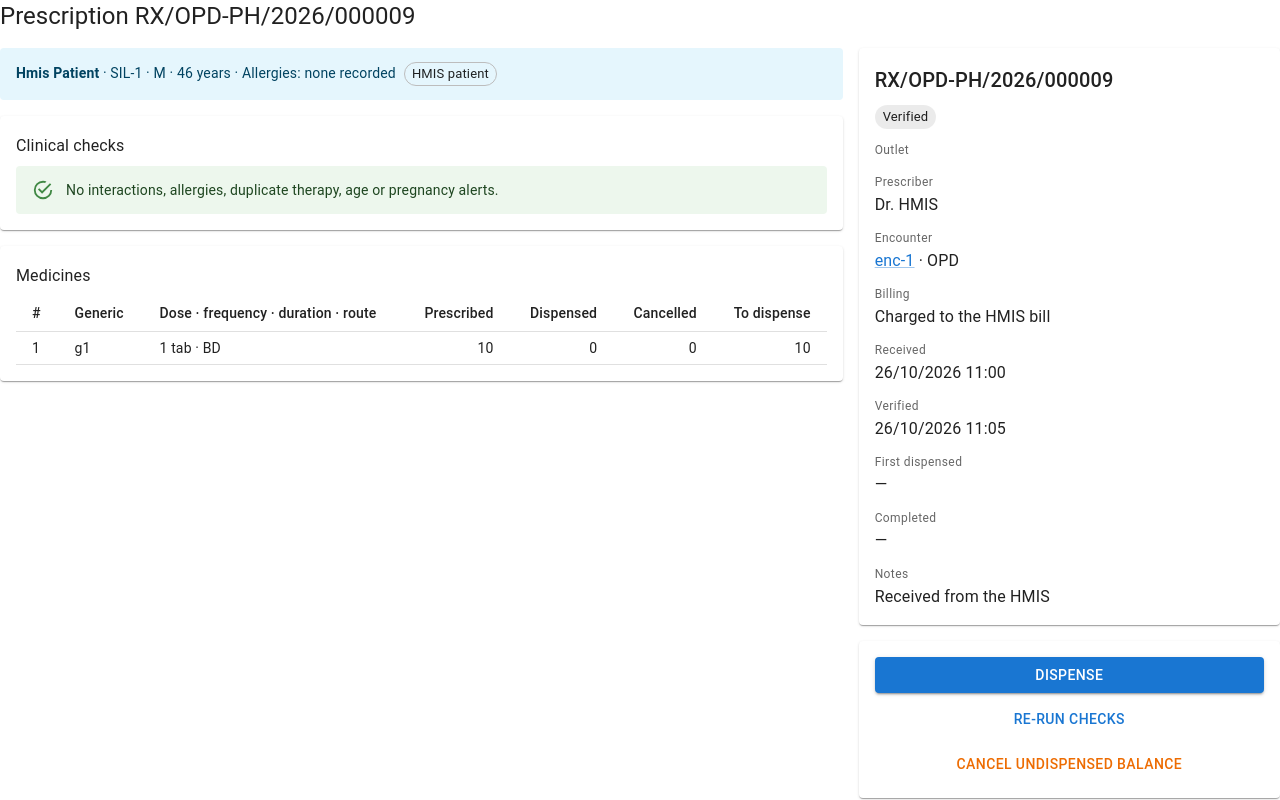
Test: HMIS billing on the prescription and encounter screens › links the encounter, shows charges and HMIS records, and takes no payment when the HMIS bills
Expected: the text "Charged to the HMIS bill" is shown, [875, 307, 1050, 326]
Expected: the text "HMIS patient" is shown, [412, 66, 489, 81]
Click the button "Dispense" at (1069, 675), box [875, 657, 1264, 693]
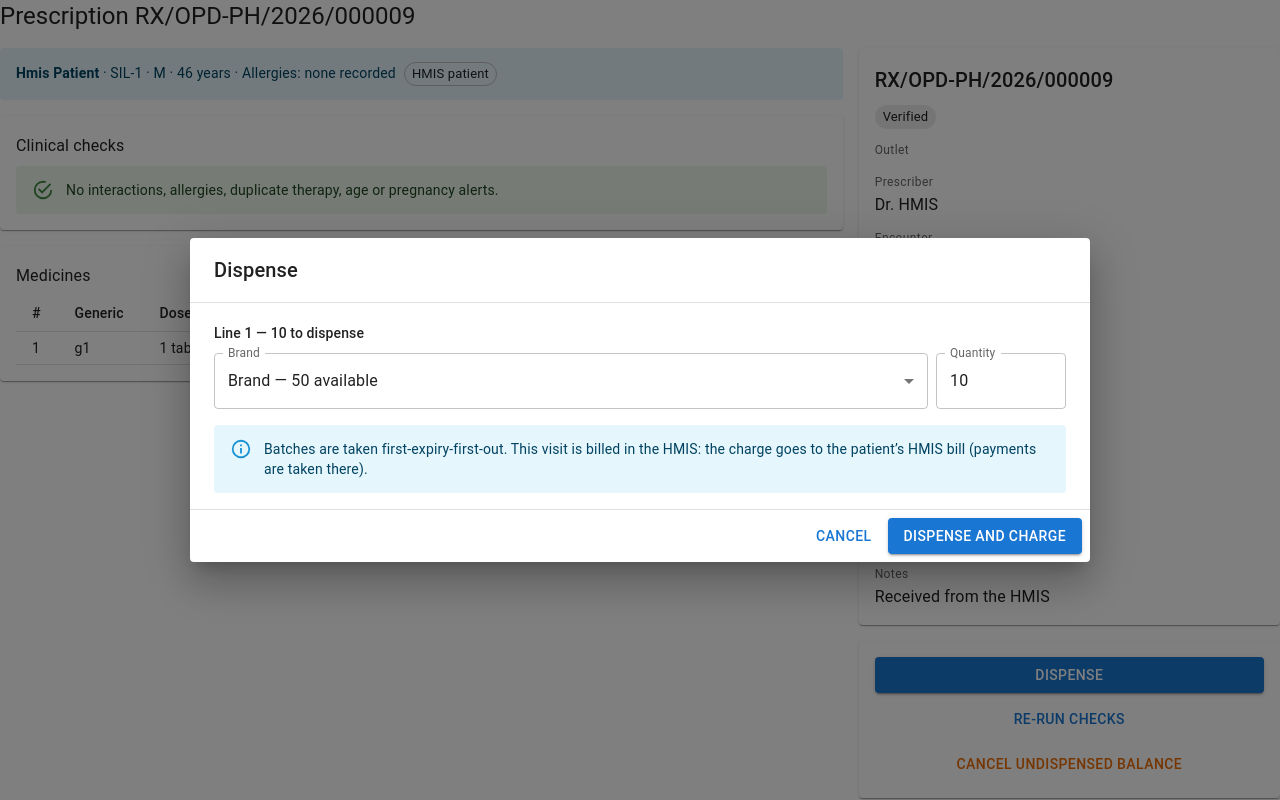
Now the text "charge goes to the patient’s HMIS bill" is shown, box [264, 441, 1036, 477]
Now the button "Dispense and charge" is shown, box [888, 518, 1082, 554]
